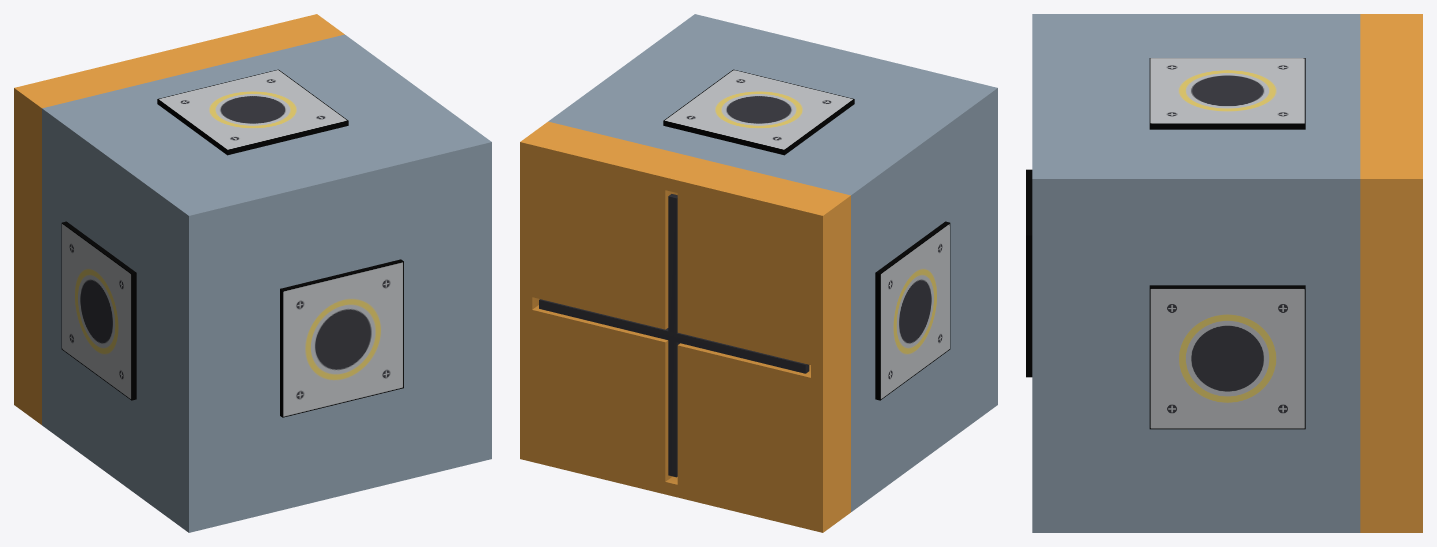
3 renders of one model, left to right at view 1: azimuth 30°, elevation 25°; view 2: azimuth 150°, elevation 25°; view 3: azimuth 270°, elevation 25°, orthographic. The views are drawn at different scales.
Parts seen in each view (by area): view 1: Body, NegY, NegX, PosZ, Head; view 2: Head, Body, NegX, PosZ; view 3: Body, PosX, Head, PosZ, NegY.
Boxes of the visible parts, <box> form: Body: <box>28,24,491,532</box>; NegY: <box>280,259,403,417</box>; NegX: <box>61,221,136,400</box>; PosZ: <box>157,69,348,155</box>; Head: <box>14,14,330,414</box>; Head: <box>520,132,836,532</box>; Body: <box>534,14,997,522</box>; NegX: <box>875,221,950,400</box>; PosZ: <box>663,69,854,155</box>; Body: <box>1032,14,1391,532</box>; PosX: <box>1149,285,1305,429</box>; Head: <box>1391,14,1422,532</box>; PosZ: <box>1149,58,1305,129</box>; NegY: <box>1026,169,1032,377</box>.
Bounding box in the file's own units: 1.03 × 1.03 × 1.02.
5 materials, 1 textured.
